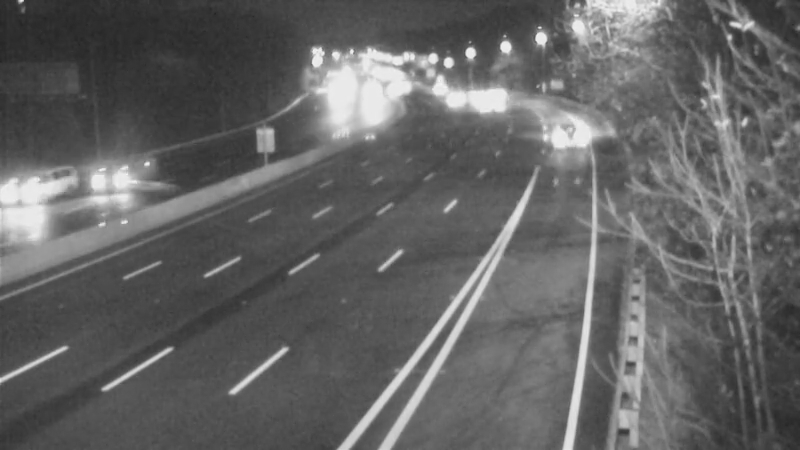vehicle: (77, 145, 157, 225), (1, 156, 71, 236), (450, 71, 500, 121), (427, 75, 477, 125), (463, 80, 513, 130), (537, 116, 587, 166)
